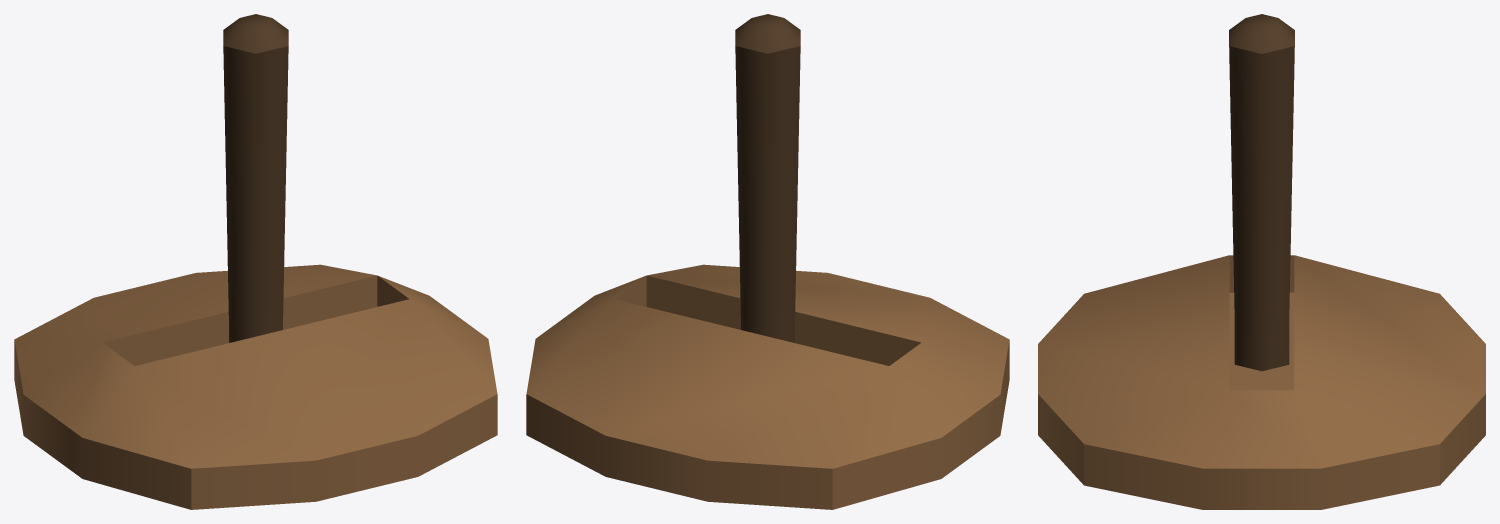
The model's file is alavanac.fbx.
The picture shows the model from 3 angles, left to right: view 1: azimuth 30°, elevation 25°; view 2: azimuth 150°, elevation 25°; view 3: azimuth 270°, elevation 25°; orthographic projection.
Parts seen in each view (by area): view 1: Box01; view 2: Box01; view 3: Box01.
Part boxes in pixels (left/top/right/bottom): Box01: left=14, top=14, right=497, bottom=509; Box01: left=526, top=14, right=1009, bottom=509; Box01: left=1038, top=14, right=1485, bottom=509.
Size of the model in its own units: 6627 by 6021 by 6292.
